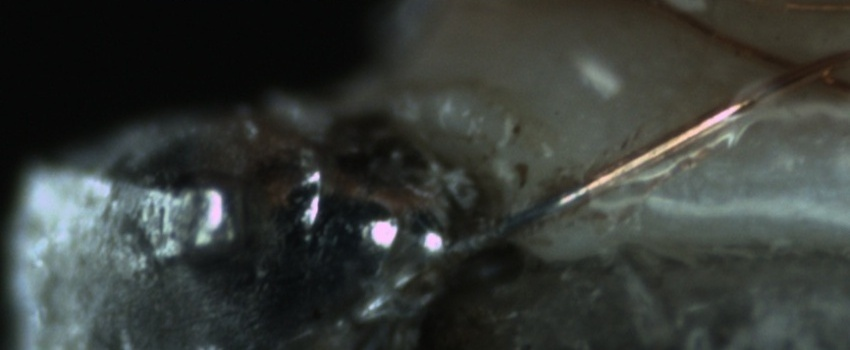CL: (760, 45, 846, 96)
TS: (453, 182, 594, 259)
